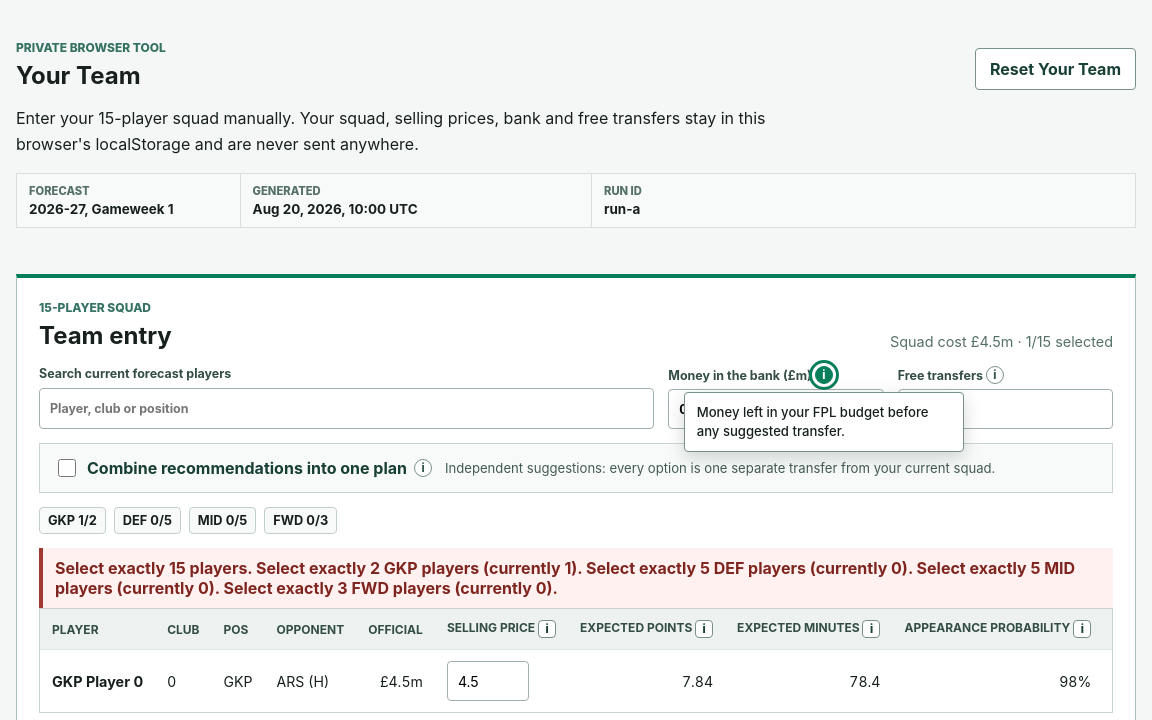
Your Team page › opens contextual help by focus and click, and closes it with Escape
Expected: the tooltip shows "Money left in your FPL budget", [697, 404, 928, 439]
Press Escape
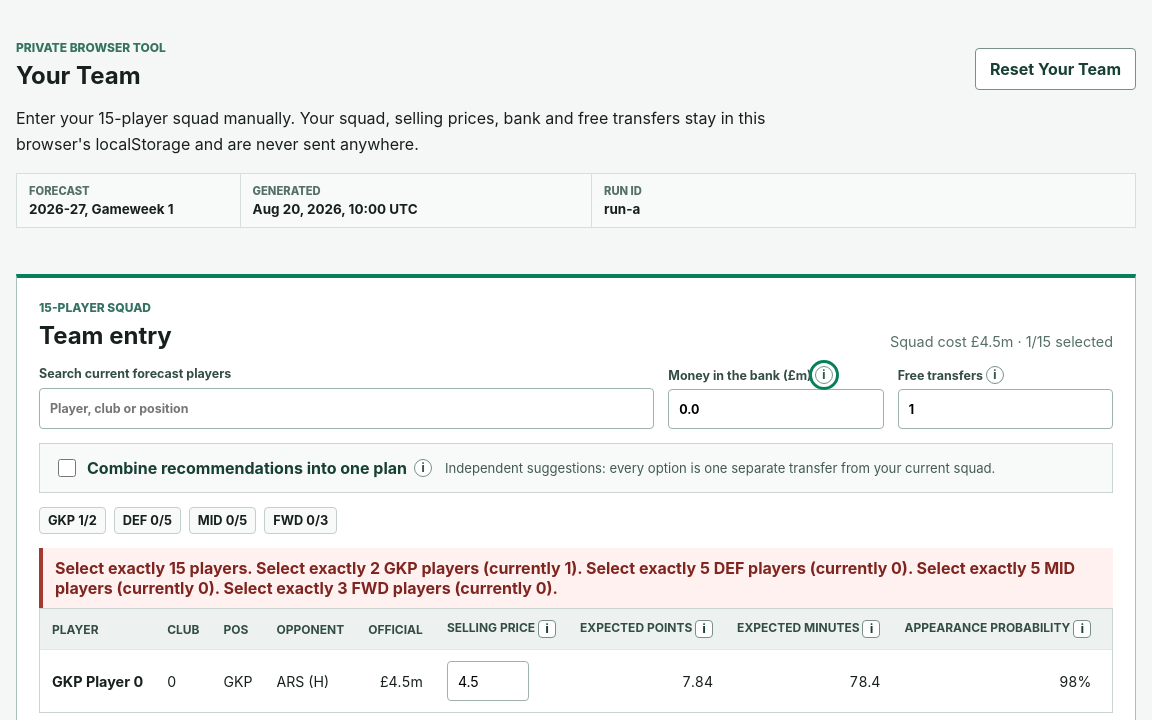
Result: the tooltip "Money left in your FPL budget before any suggested transfer." is gone
Click the button named "More information about Money in the bank (£m)" at coordinates (824, 375), box [815, 366, 833, 384]
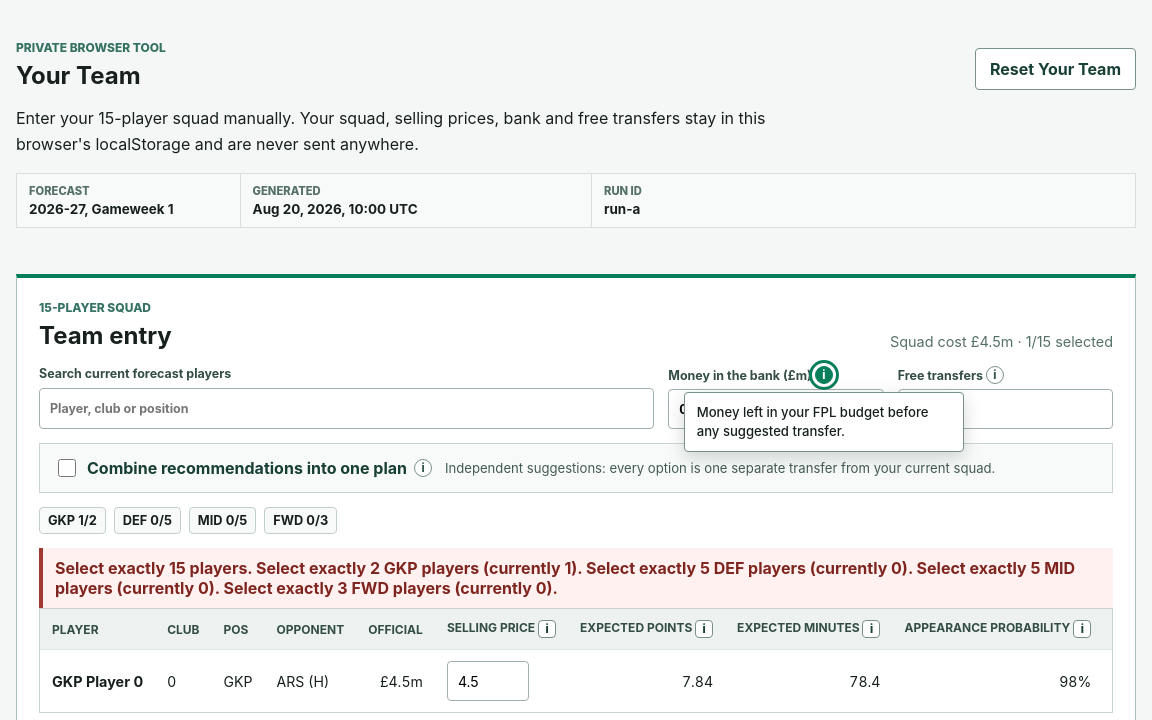
Result: the tooltip "Money left in your FPL budget before any suggested transfer." is shown at [684, 392, 964, 452]
